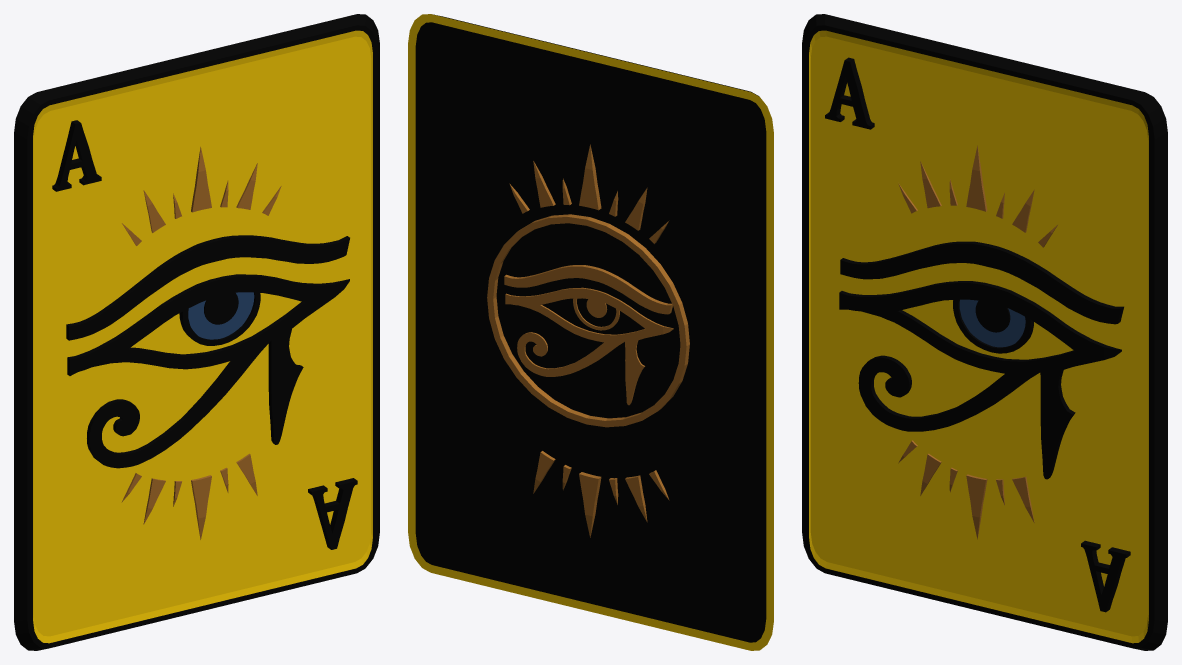
Rendered from orus.glb.
3 views of the same model, side by side, from view 1: azimuth 30°, elevation 25°; view 2: azimuth 150°, elevation 25°; view 3: azimuth 330°, elevation 25° (orthographic).
Parts seen in each view (by area): view 1: Cylinder.001; view 2: Cylinder.001; view 3: Cylinder.001.
Boxes of the visible parts, x1,y1,x2,y2 form: Cylinder.001: (14,14,379,650); Cylinder.001: (408,14,773,650); Cylinder.001: (802,14,1167,650).
Bounding box in the file's own units: 4.03 × 5.88 × 0.2577.
